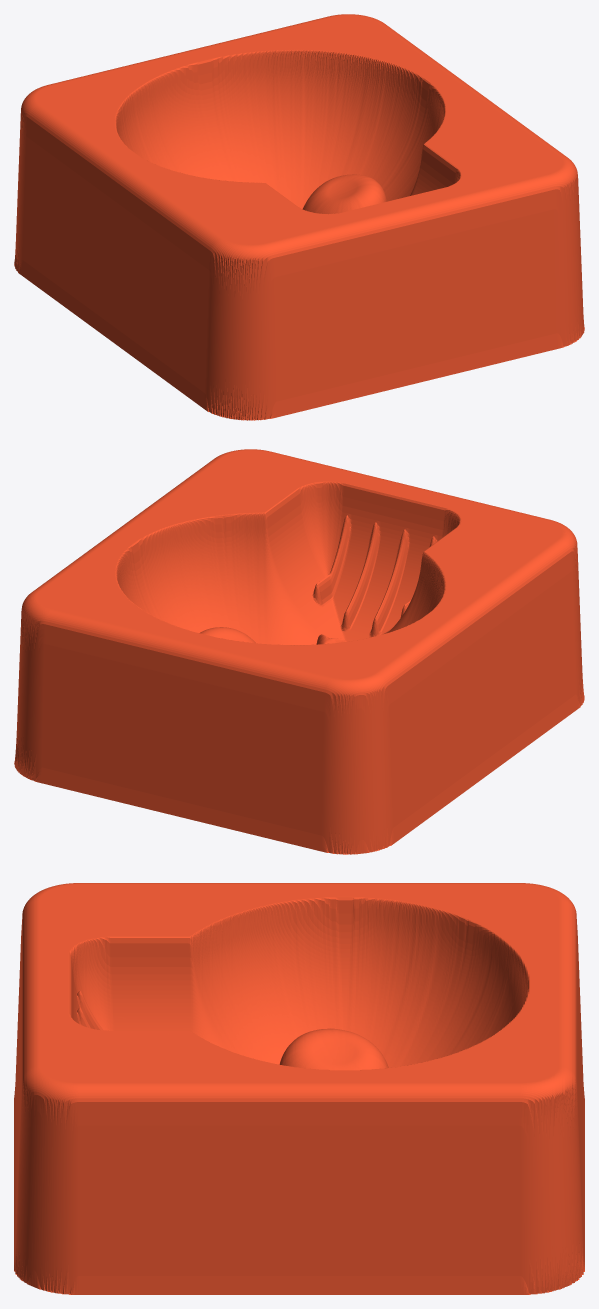
Rendered from mold.glb.
3 renders of one model, top to bottom at view 1: azimuth 30°, elevation 25°; view 2: azimuth 150°, elevation 25°; view 3: azimuth 270°, elevation 25°, orthographic. The views are drawn at different scales.
Parts seen in each view (by area): view 1: geometry_0; view 2: geometry_0; view 3: geometry_0.
Boxes of the visible parts, x1=… form: geometry_0: x1=14, y1=14, x2=584, y2=420; geometry_0: x1=14, y1=449, x2=584, y2=854; geometry_0: x1=14, y1=883, x2=584, y2=1294.
Bounding box in the file's own units: 0.0728 × 0.031 × 0.0798.
